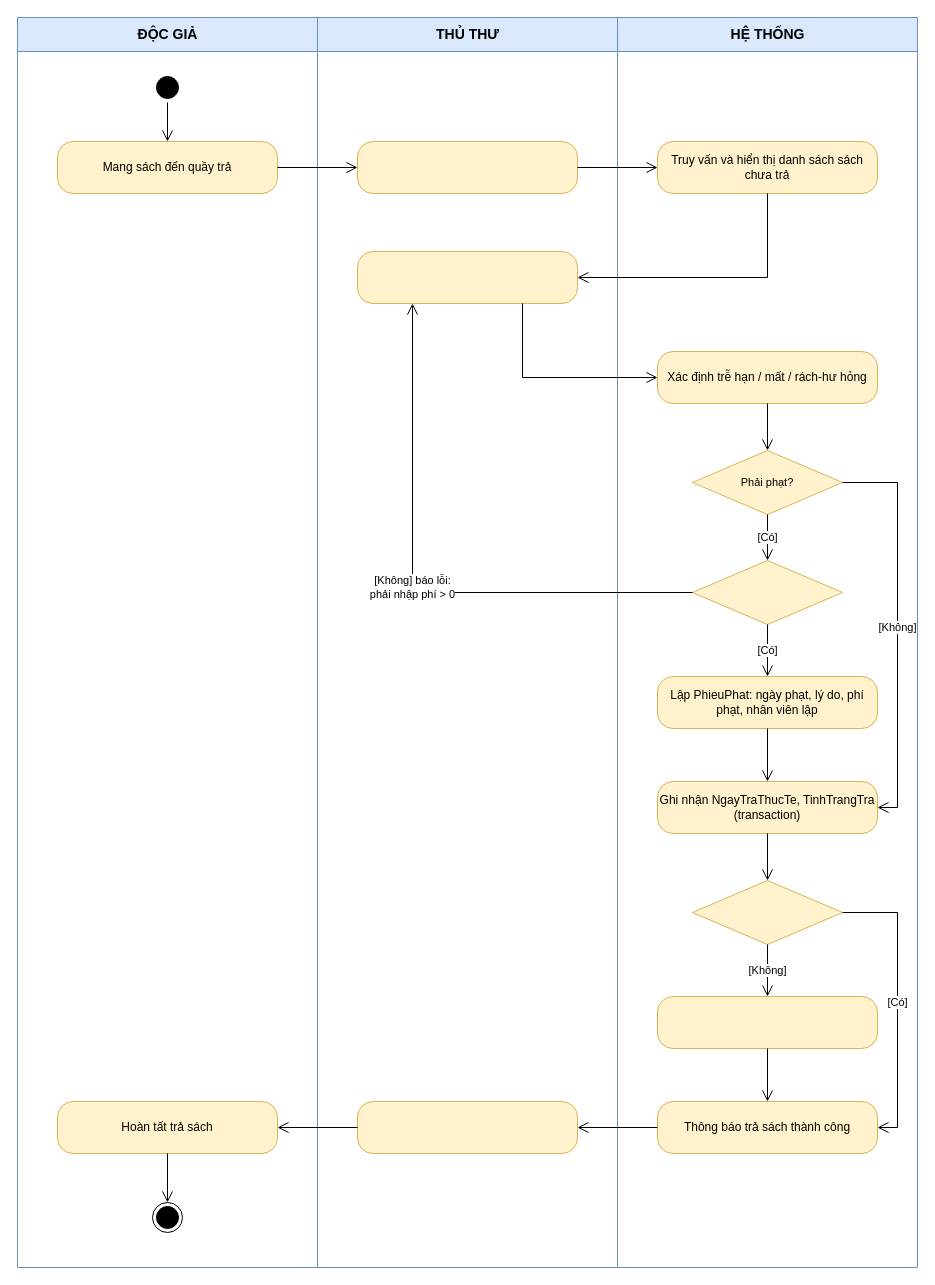
Some shapes in this 935 by 1285 pixel diagram are drawn without their labels. The shapes that lost their labels are listed below. From the top down, each one's centre as x and y in pixels, then its label:
point 467,167: Chọn độc giả, nhấn Tải sách đang mượn
point 467,277: Chọn sách, nhập ngày trả, tình trạng, phí phạt (nếu có); nhấn Trả sách
point 767,592: Phí phạt > 0?
point 767,912: Sách mất / hư hỏng?
point 767,1022: Tăng SoLuongHienCo của đầu sách
point 467,1127: Thu phí phạt (nếu có), xác nhận với độc giả
